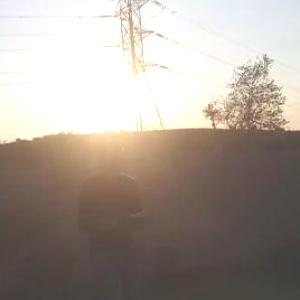follow: (75, 131, 149, 299)
